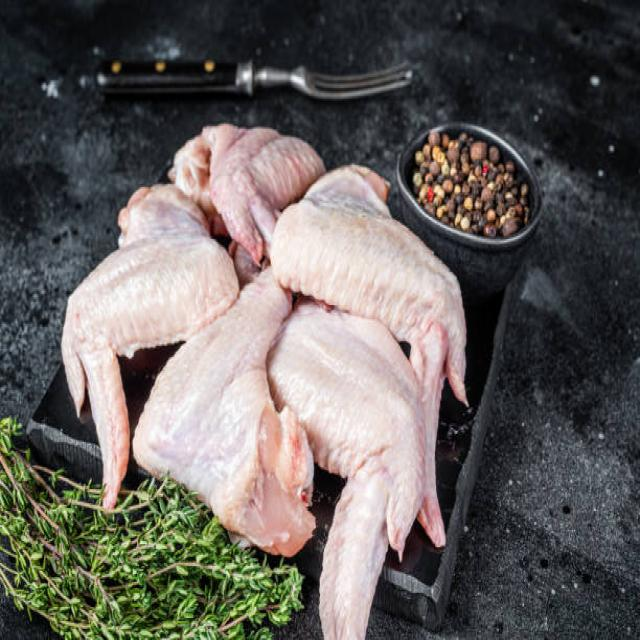Chicken: (276, 163, 456, 540), (57, 184, 210, 486)
